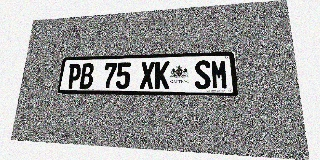5: (116, 62, 131, 89)
7: (102, 63, 117, 89)
B: (79, 63, 94, 89)
K: (154, 61, 170, 89)
M: (211, 60, 228, 89)
P: (66, 64, 82, 89)
S: (194, 60, 211, 89)
X: (140, 62, 155, 89)
